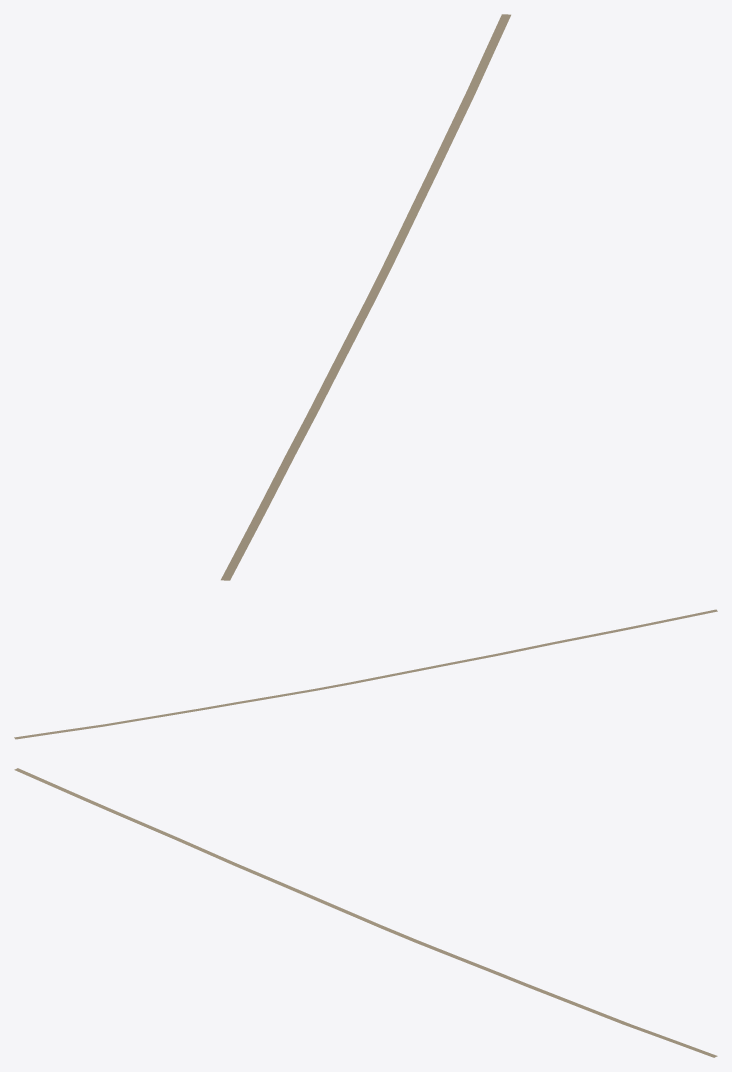
File: farm_-6_3_track.glb
The picture shows the model from 3 angles, top to bottom: view 1: azimuth 30°, elevation 25°; view 2: azimuth 150°, elevation 25°; view 3: azimuth 270°, elevation 25°; orthographic projection. The views are drawn at different scales.
Visible parts, largest first — view 1: geometry_0; view 2: geometry_0; view 3: geometry_0.
Part boxes in pixels (x1,y1,x2,y2): geometry_0: [221, 14, 510, 580]; geometry_0: [14, 609, 717, 739]; geometry_0: [14, 768, 717, 1057].
Size of the model in its own units: 331 by 19 by 382.
